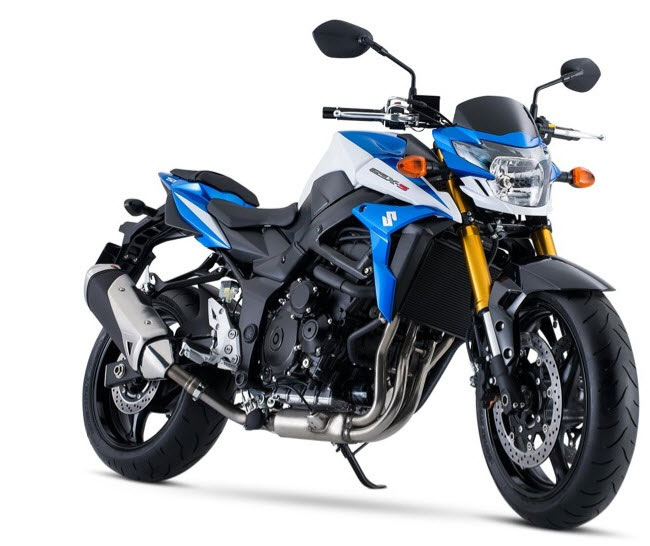motorcycle: (78, 94, 637, 530)
